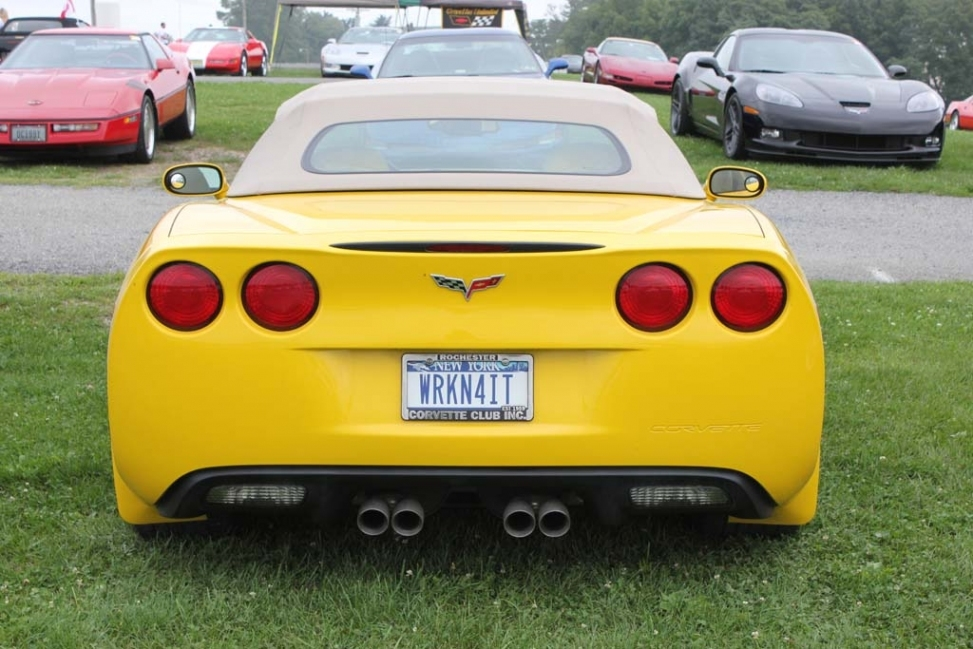license plate: (397, 351, 538, 426)
